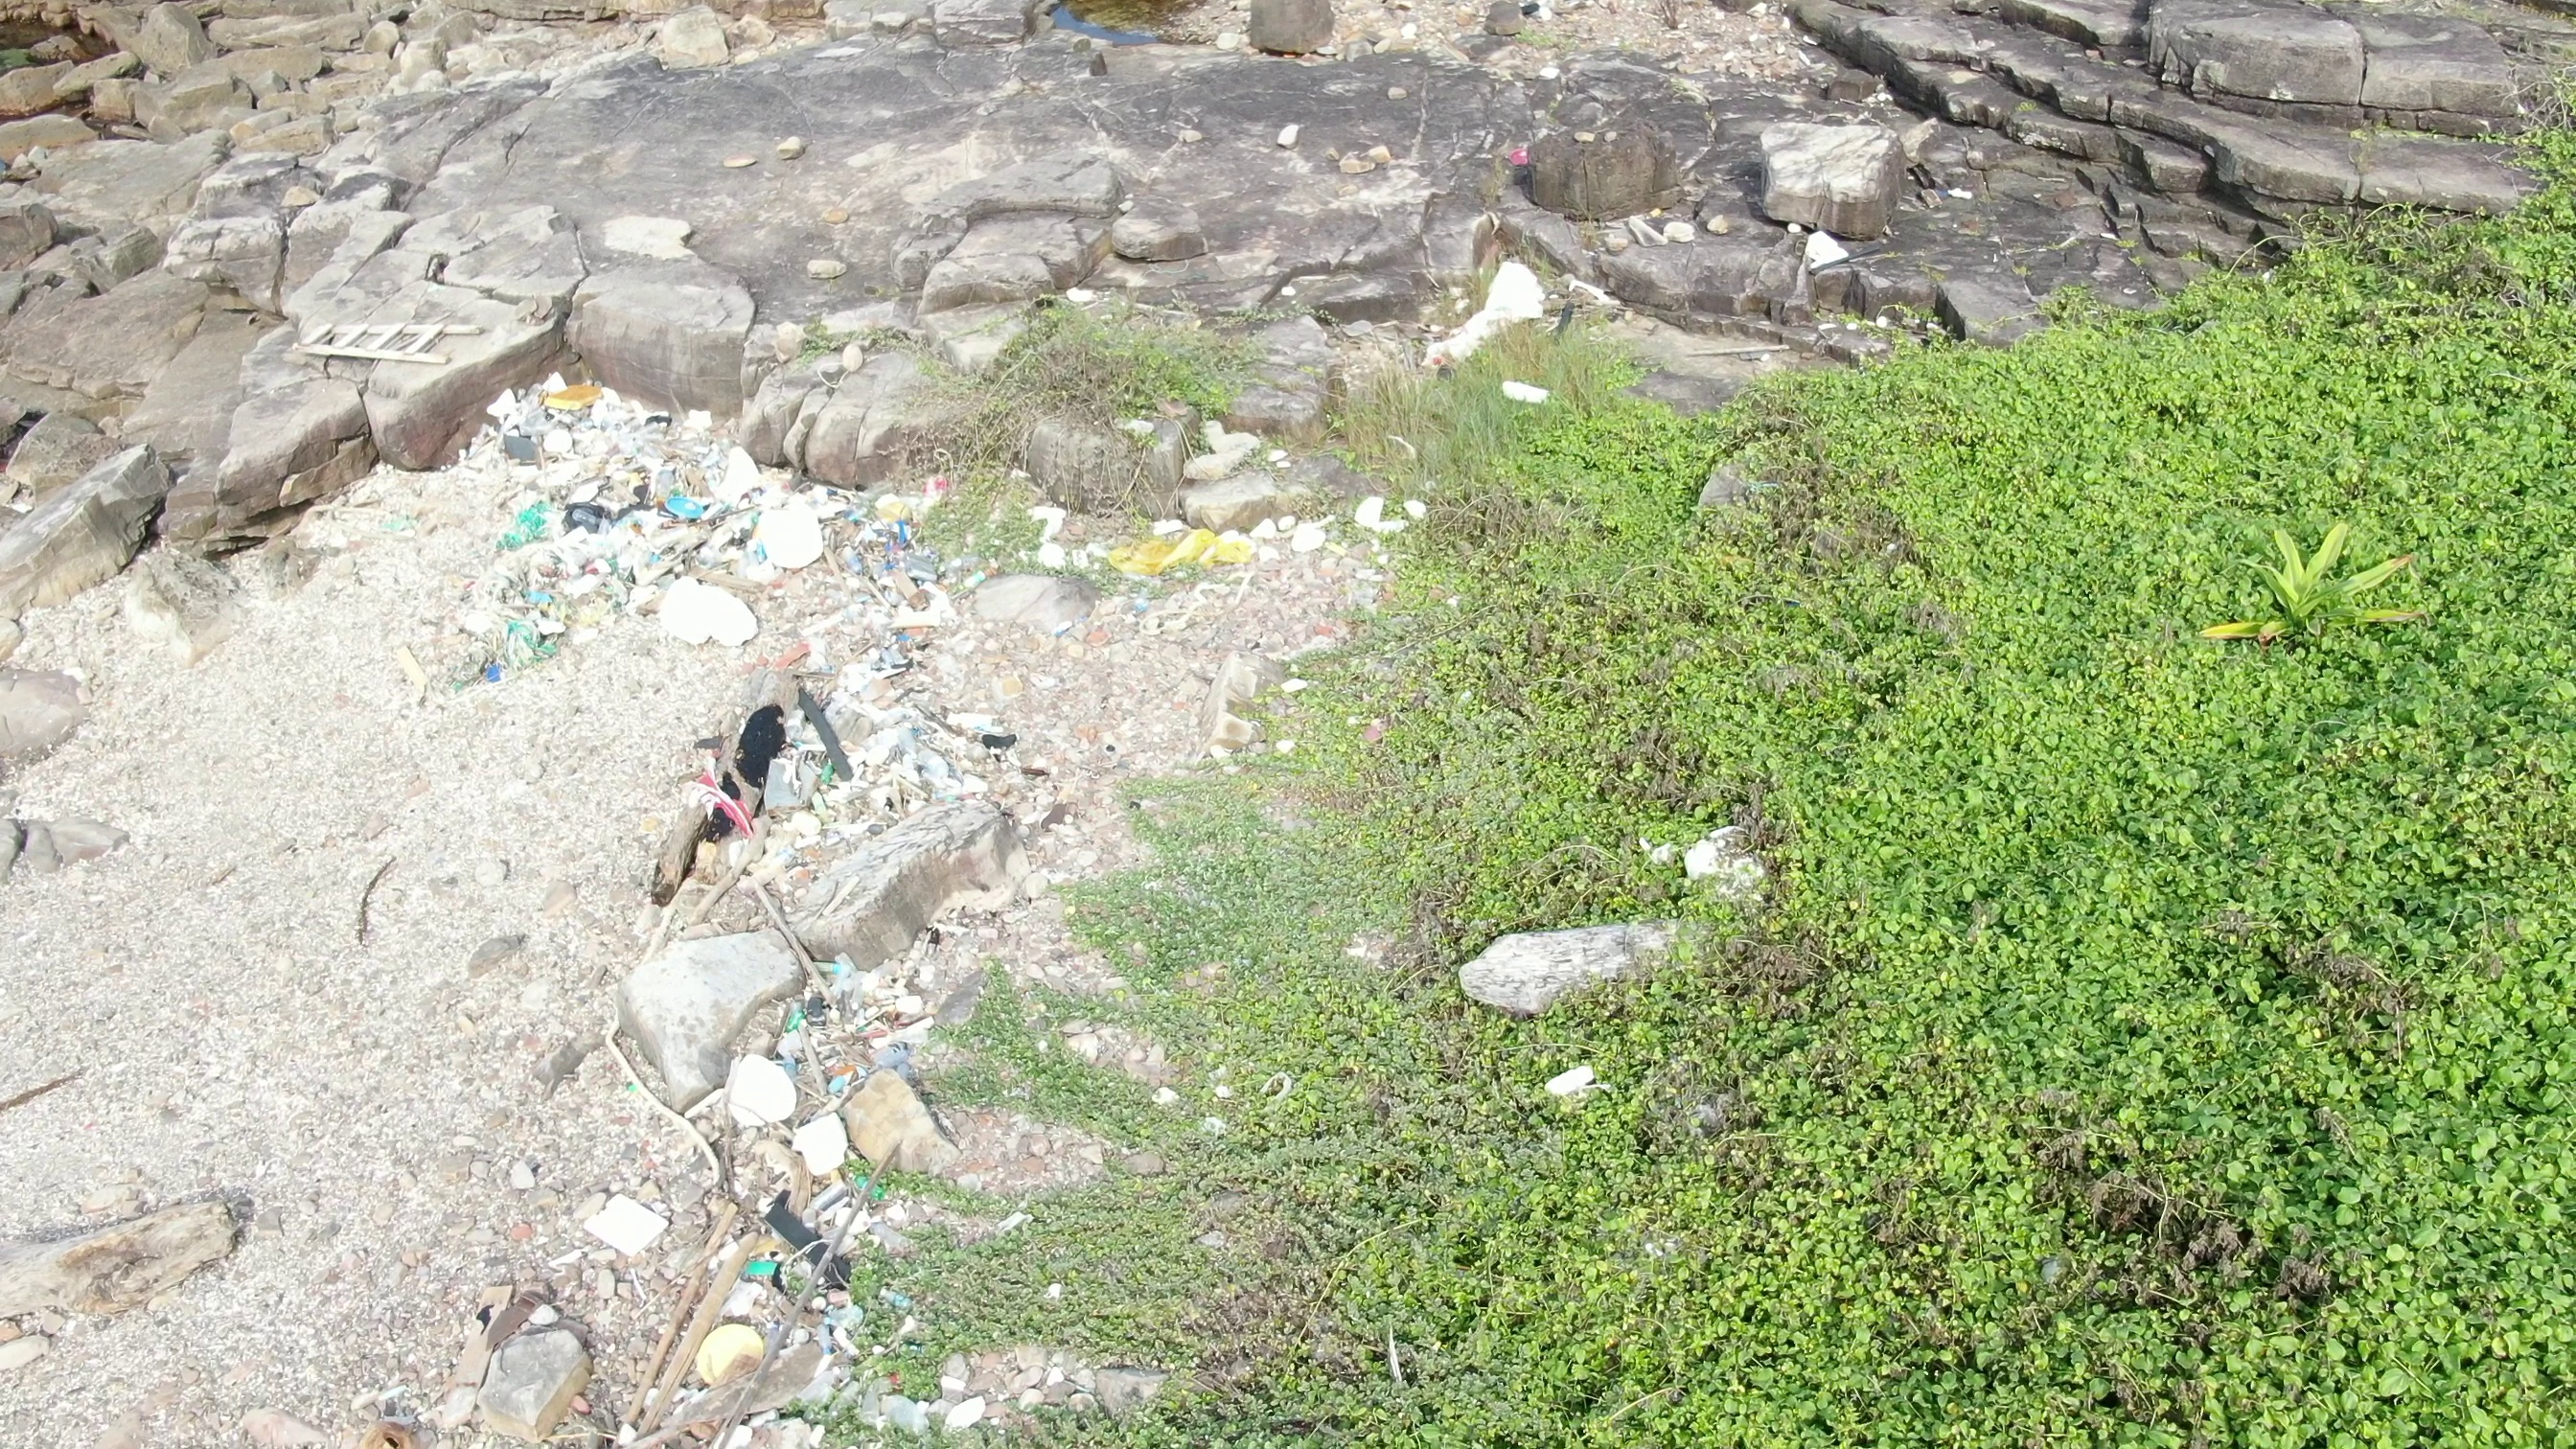garbage: (605, 685, 1069, 1449), (423, 370, 971, 688), (1398, 260, 1598, 370), (1088, 515, 1265, 584), (285, 317, 502, 370), (1493, 2, 1679, 37), (1470, 370, 1560, 409), (1502, 134, 1536, 173)
